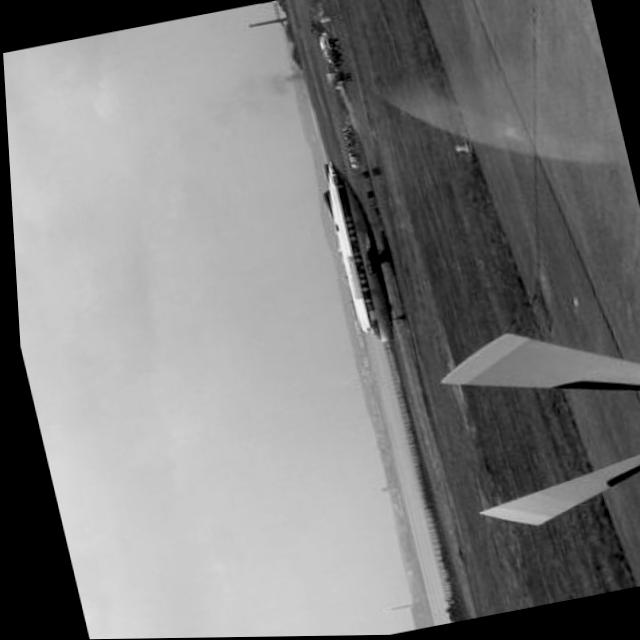aeroplane: (313, 150, 405, 349)
